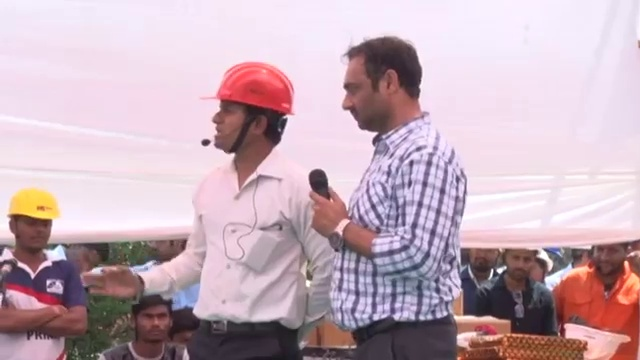helmet: (197, 62, 304, 119), (562, 323, 631, 360), (3, 187, 61, 223)
helmet_off: (339, 36, 429, 133), (125, 290, 175, 348), (59, 240, 111, 276), (503, 247, 542, 286), (468, 243, 504, 281), (144, 237, 191, 265), (592, 239, 626, 276)
helmet_on: (198, 65, 305, 174), (3, 186, 60, 257)
person: (141, 57, 352, 360), (305, 32, 485, 360), (0, 181, 90, 360), (560, 240, 640, 341), (478, 248, 558, 329), (100, 291, 185, 360), (457, 240, 502, 321)
